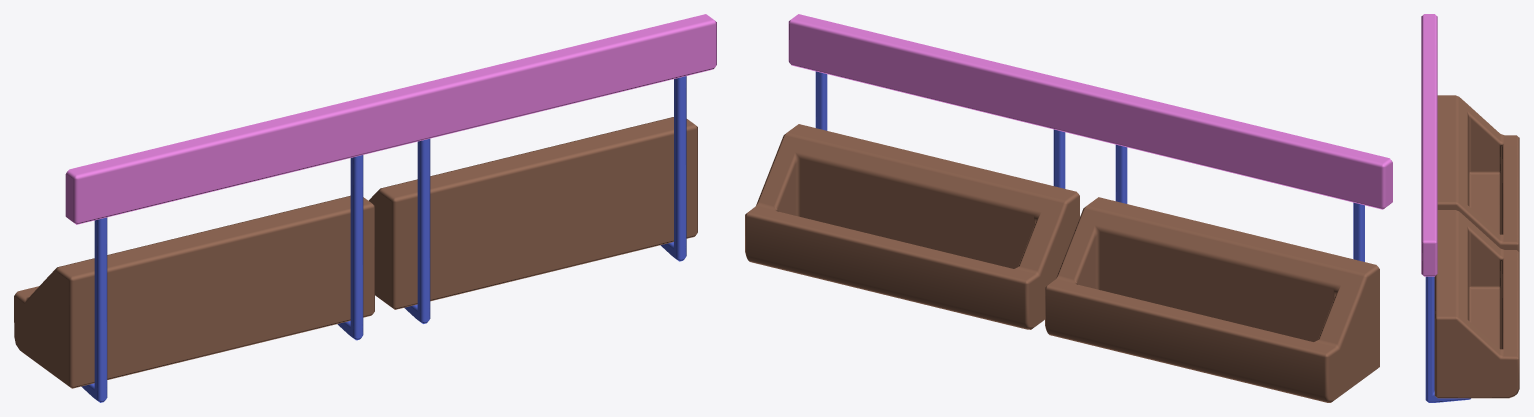
The model's file is Containers.fbx.
3 views of the same model, side by side, from view 1: azimuth 30°, elevation 25°; view 2: azimuth 150°, elevation 25°; view 3: azimuth 270°, elevation 25° (orthographic). The views are drawn at different scales.
Parts seen in each view (by area): view 1: Cube.015; view 2: Cube.015; view 3: Cube.015.
Part boxes in pixels (<box>): Cube.015: <box>14,14,716,402</box>; Cube.015: <box>745,14,1392,402</box>; Cube.015: <box>1421,14,1519,402</box>.
Size of the model in its own units: 64.24 by 22.61 by 11.7.
